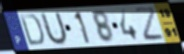1: (73, 10, 92, 45)
4: (121, 8, 141, 43)
8: (92, 9, 115, 44)
D: (18, 13, 46, 47)
U: (40, 11, 69, 48)
Z: (133, 5, 167, 42)
